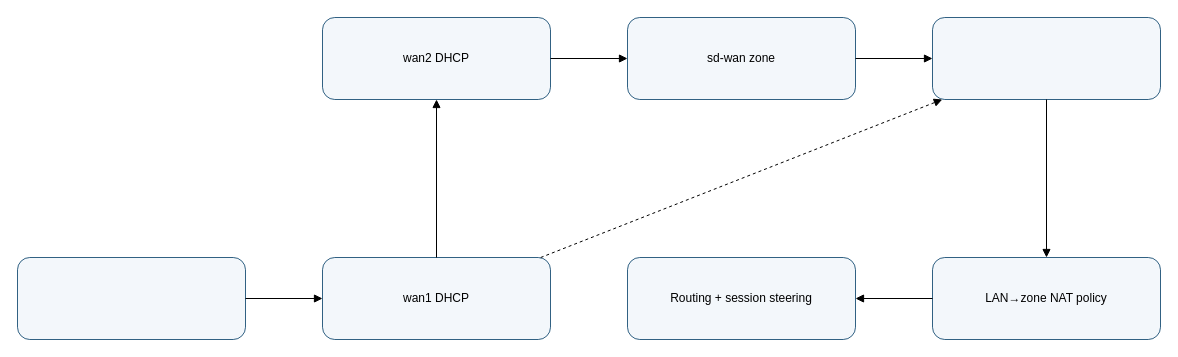
The diagram is 1178 pixels wide and 357 high, and some of its shapes have lost their labels. The box of each missing label's shape, as (x1, y1, x2, y2) in pixels:
Default_Ping SLA: (932, 16, 1160, 100)
Factory reset / supported model: (16, 256, 246, 340)
